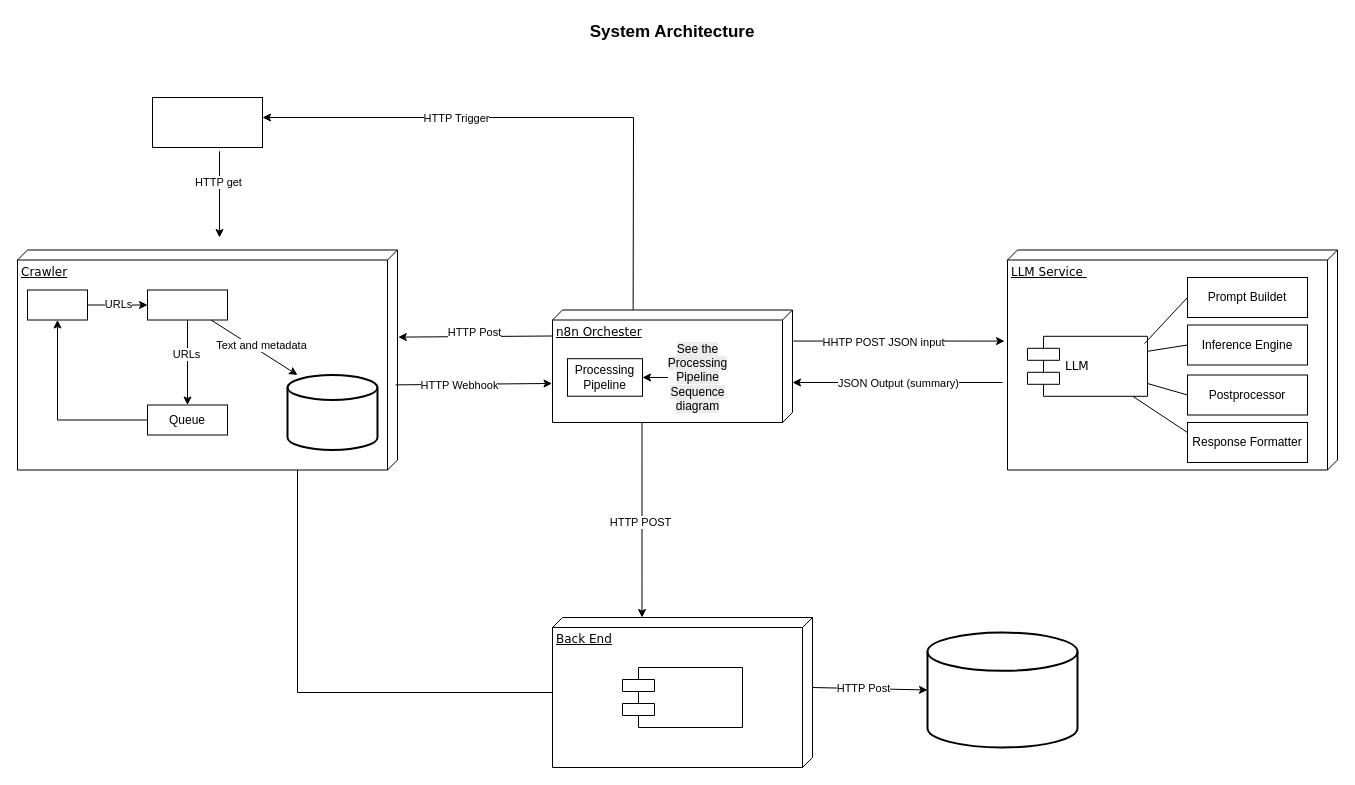
Image size: 1355x785. Some labels were removed from this diagram. The shapes that lost their labels are listed below. From the top down, each one's centre as x and y in pixels, then its label:
At (207,122): "News Sources Websites".
At (57,304): "Scheduler".
At (187,304): "Downloader and Parser".
At (332,412): "DB and File Storage".
At (682,697): "API".
At (1002,689): "Database summaries".
